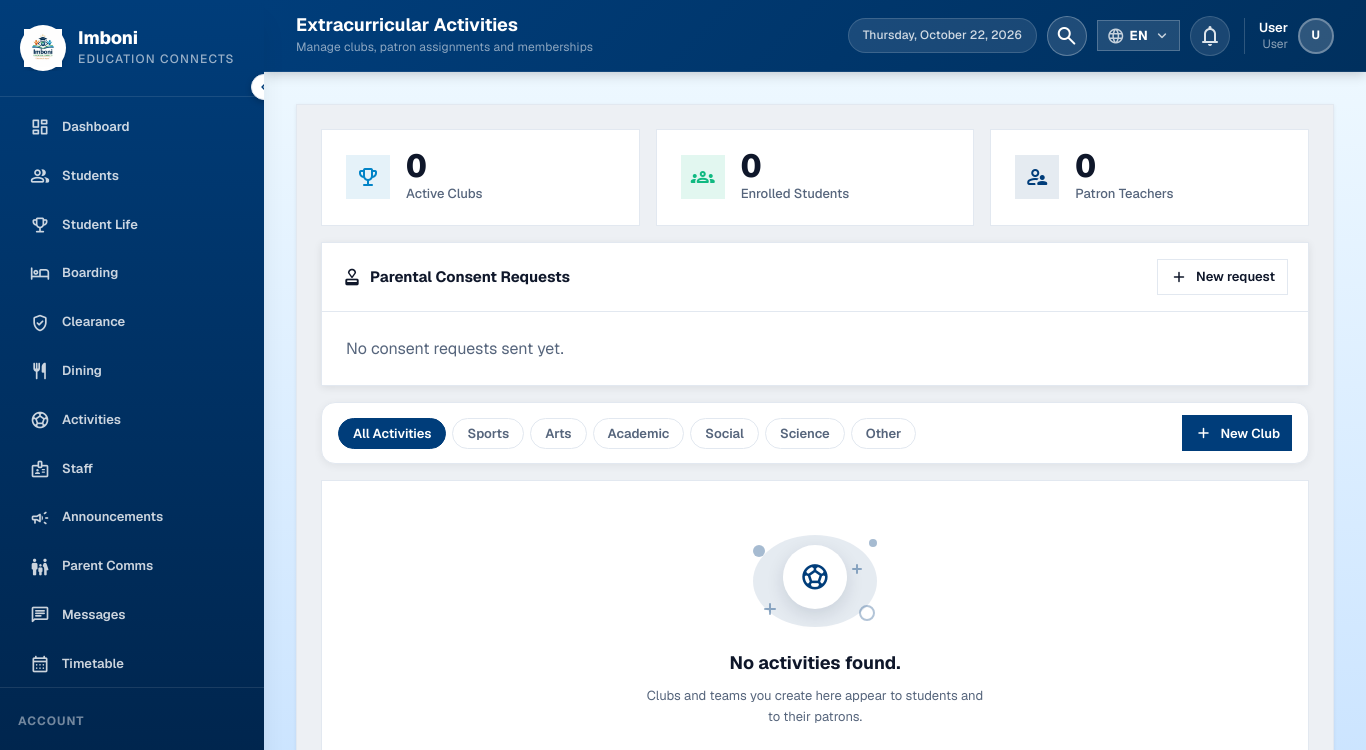
Test: DisActivities › creates a new activity via the modal and shows it in the list
This screenshot has width=1366, height=750.
Expected: the text "No activities found." is shown, top-left (730, 649), bottom-right (900, 678)
Step 1. Click the button "New Club" → point(1237, 433), box top-left (1182, 415), bottom-right (1292, 451)
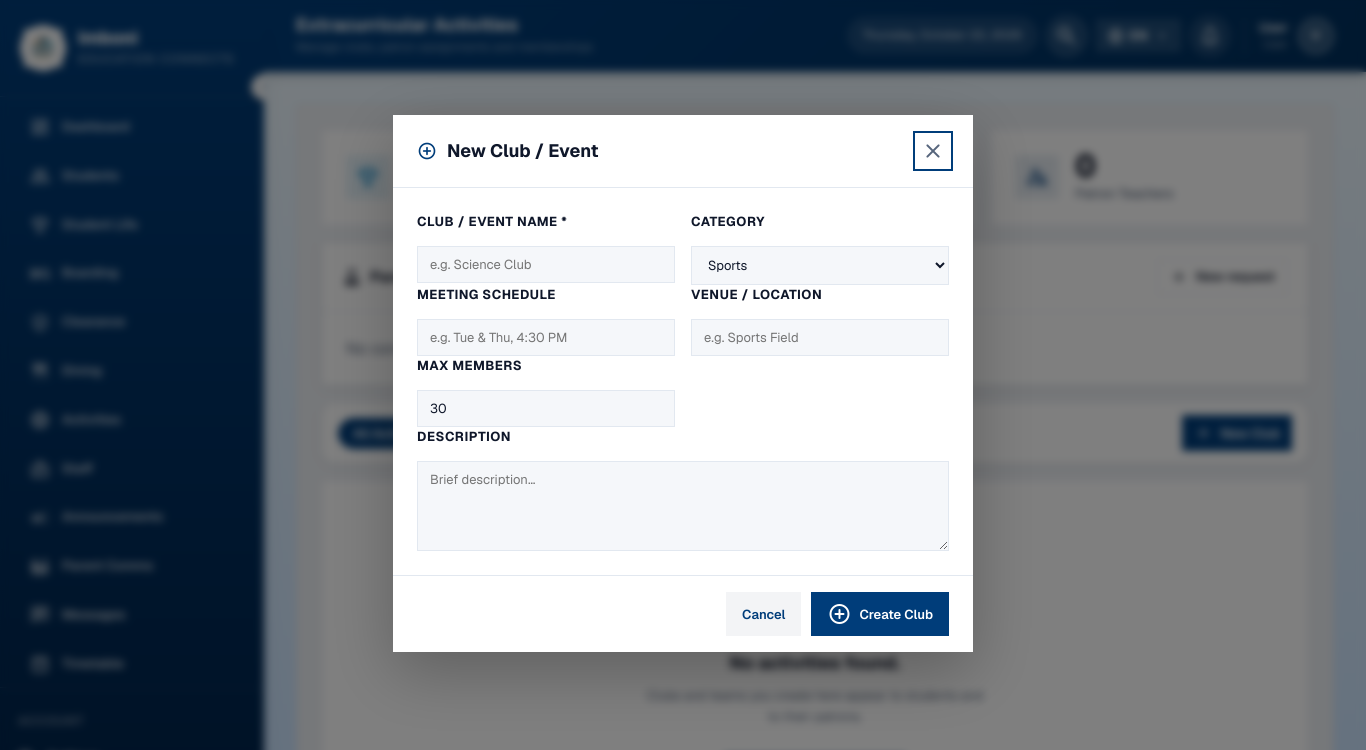
Step 2. Type "Drama Club" into the field with placeholder "e.g. Science Club" → point(546, 265), box top-left (417, 247), bottom-right (675, 283)
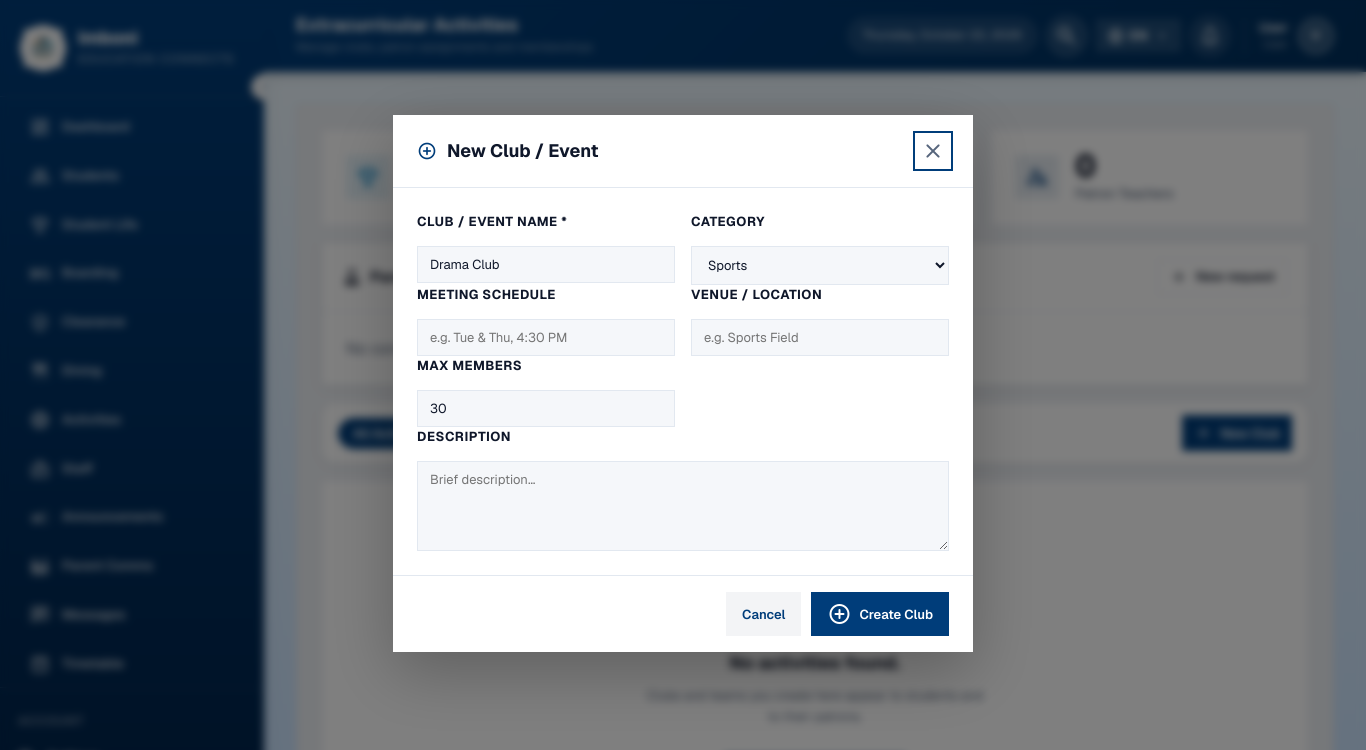
Step 3. Click the button "Create Club" → point(880, 615), box top-left (812, 593), bottom-right (949, 637)
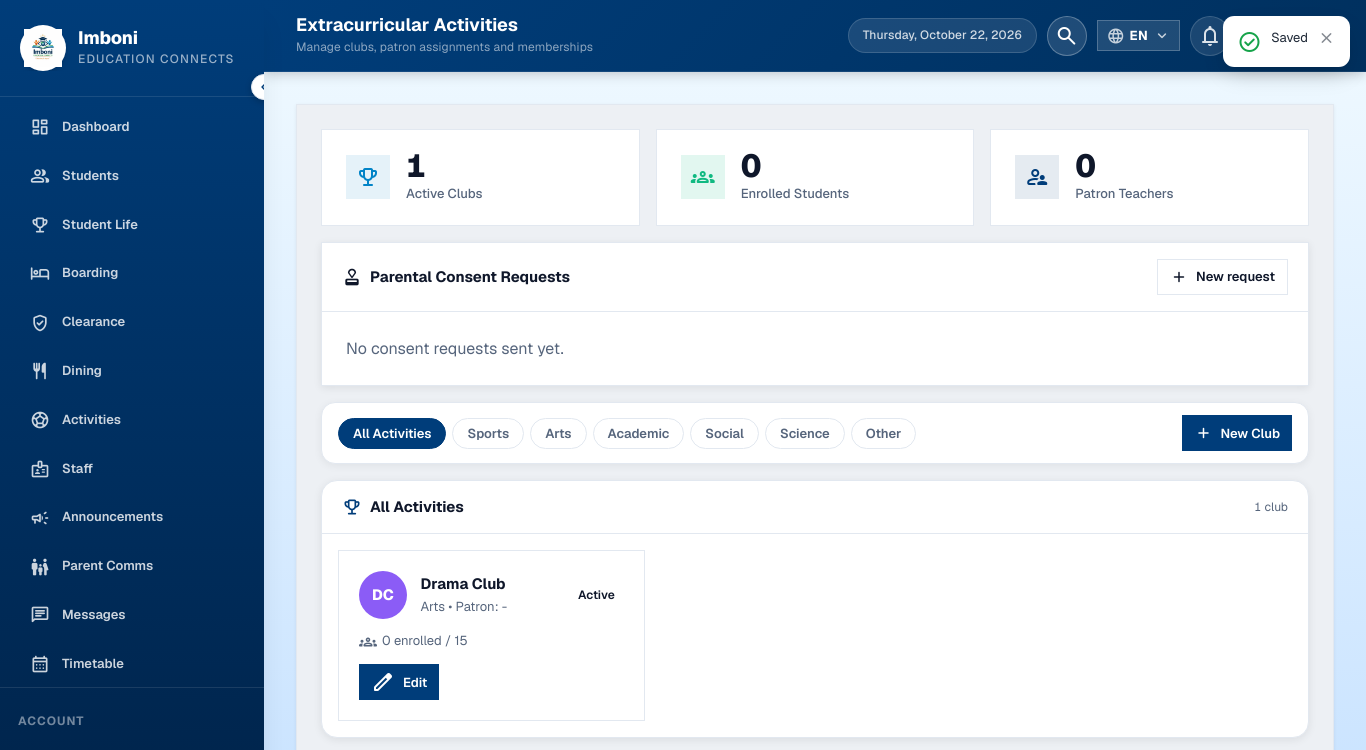
Result: the text "Drama Club" is shown at top-left (421, 572), bottom-right (507, 596)
